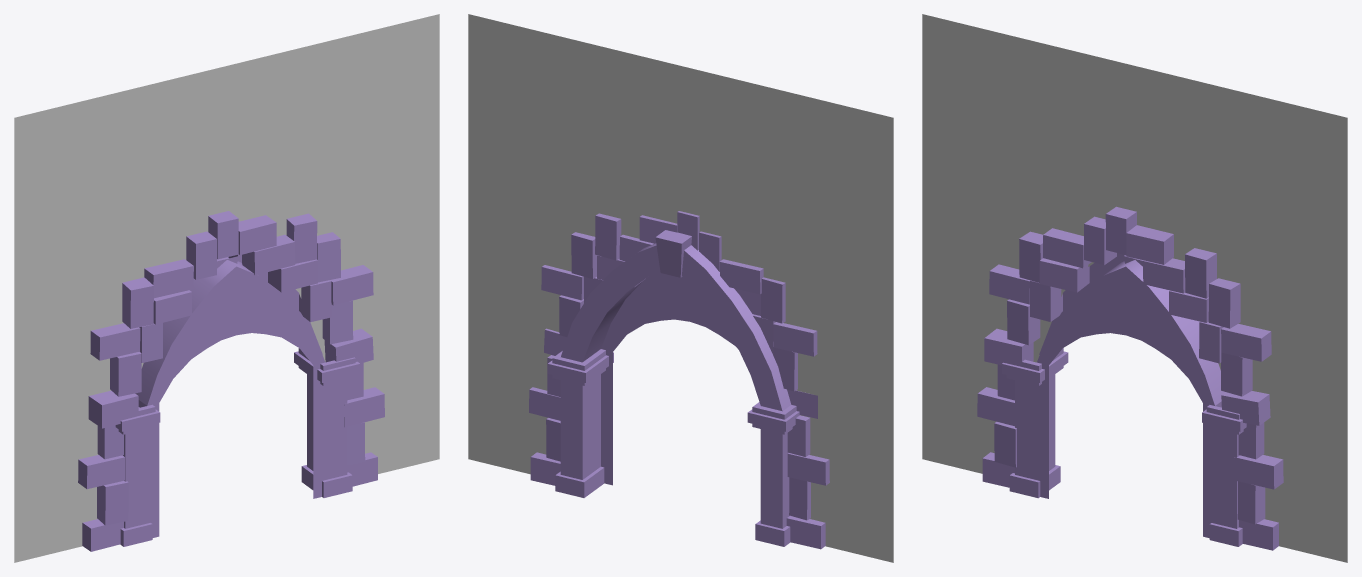
Rendered from gate_a.fbx.
The picture shows the model from 3 angles, left to right: view 1: azimuth 30°, elevation 25°; view 2: azimuth 150°, elevation 25°; view 3: azimuth 330°, elevation 25°; orthographic projection.
Parts seen in each view (by area): view 1: Plane.021; view 2: Plane.021; view 3: Plane.021.
Boxes of the visible parts, box(x1,y1,x2,y2) form: Plane.021: box(14, 14, 439, 562); Plane.021: box(468, 14, 893, 562); Plane.021: box(922, 14, 1347, 562).
Bounding box in the file's own units: 10 × 10 × 1.15.
